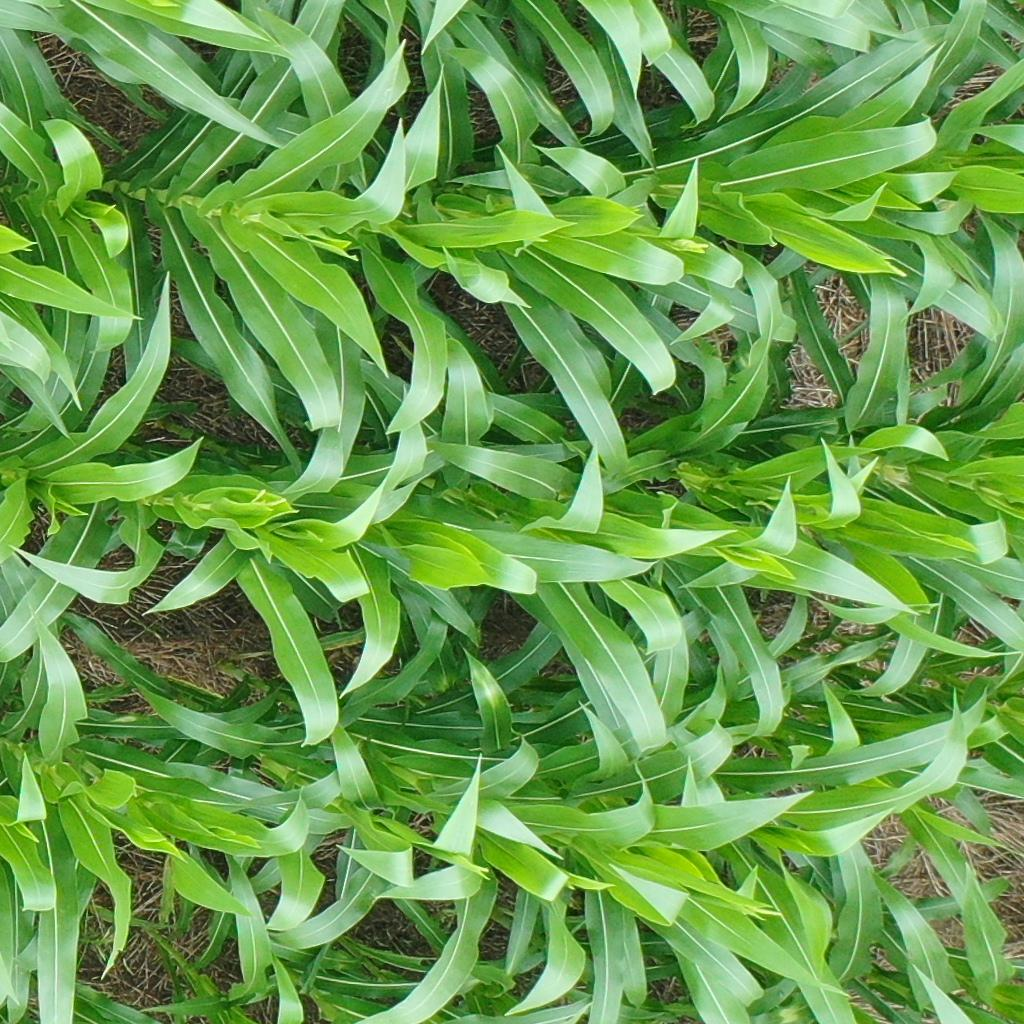Tassel: (248, 487, 289, 516), (668, 236, 712, 254), (746, 903, 782, 920), (463, 856, 491, 877)
